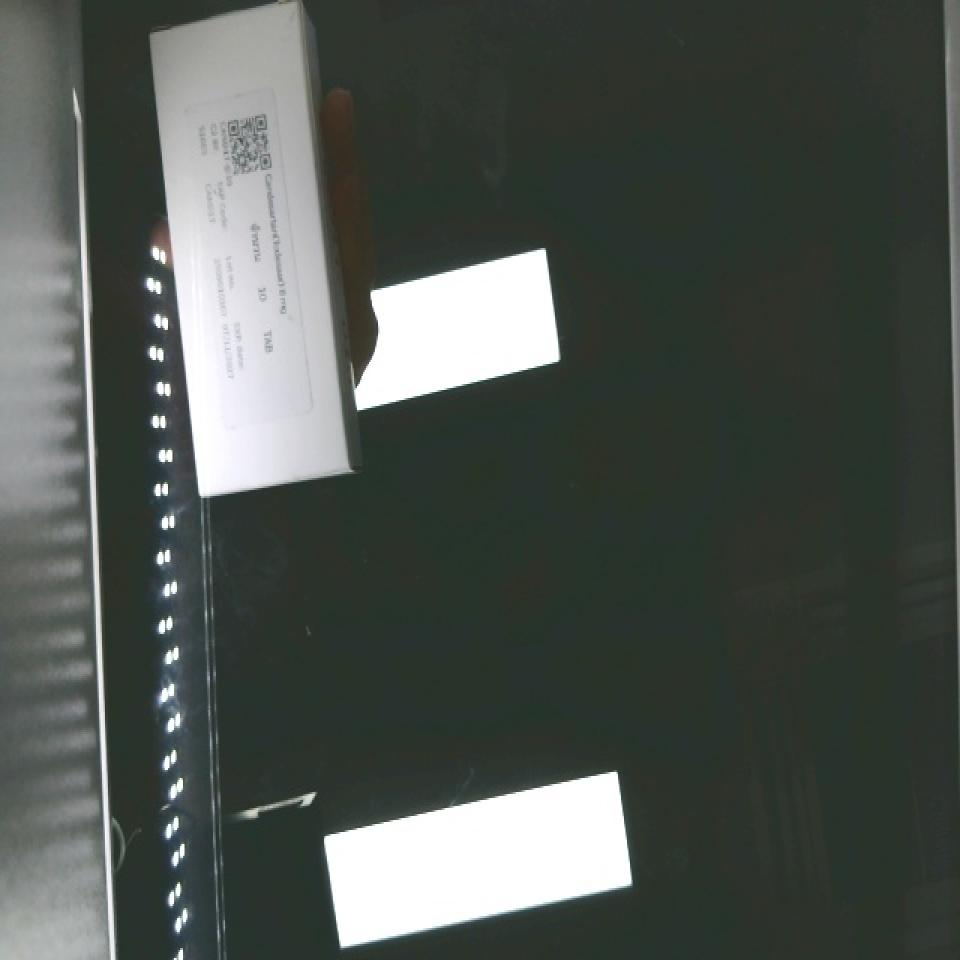medicine_box: (146, 0, 356, 497)
qr_code: (210, 92, 291, 196)
